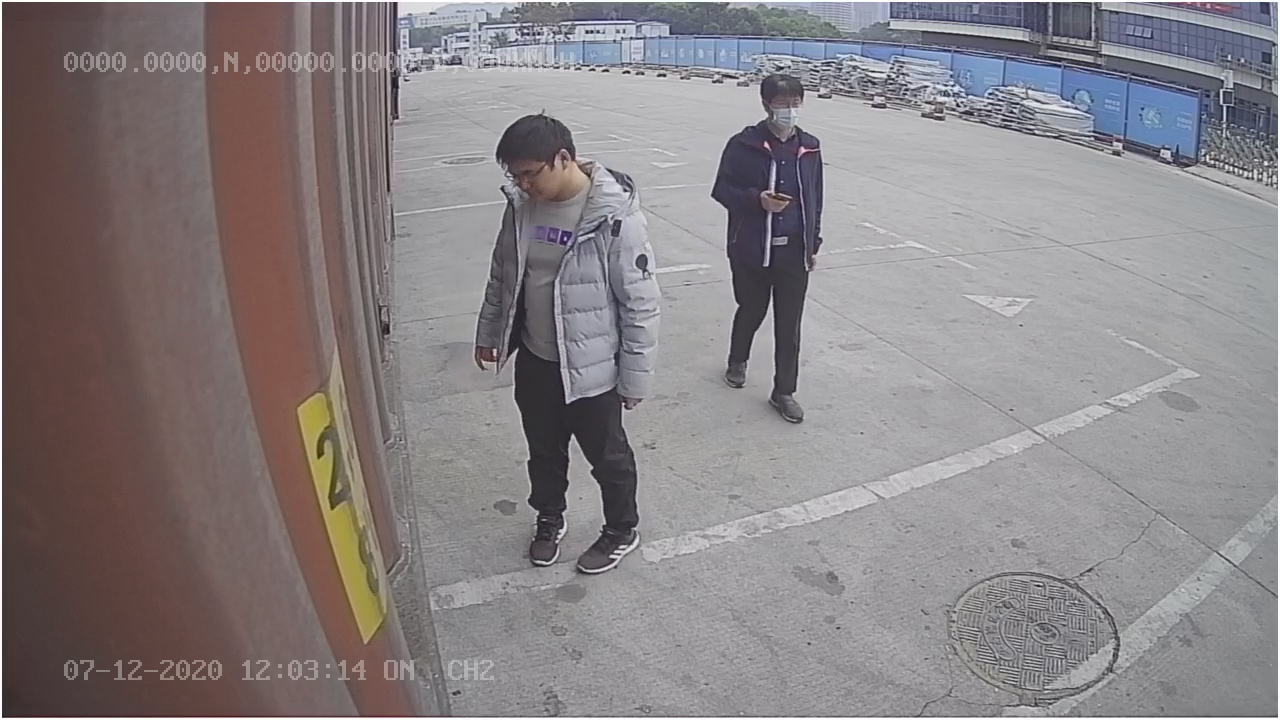person: (466, 115, 658, 573), (712, 73, 828, 429)
